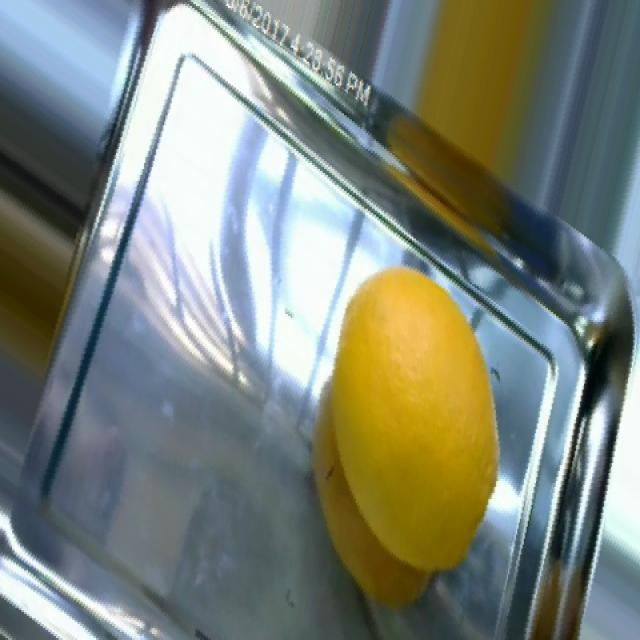Fruit: (308, 254, 504, 596), (409, 0, 579, 244)
